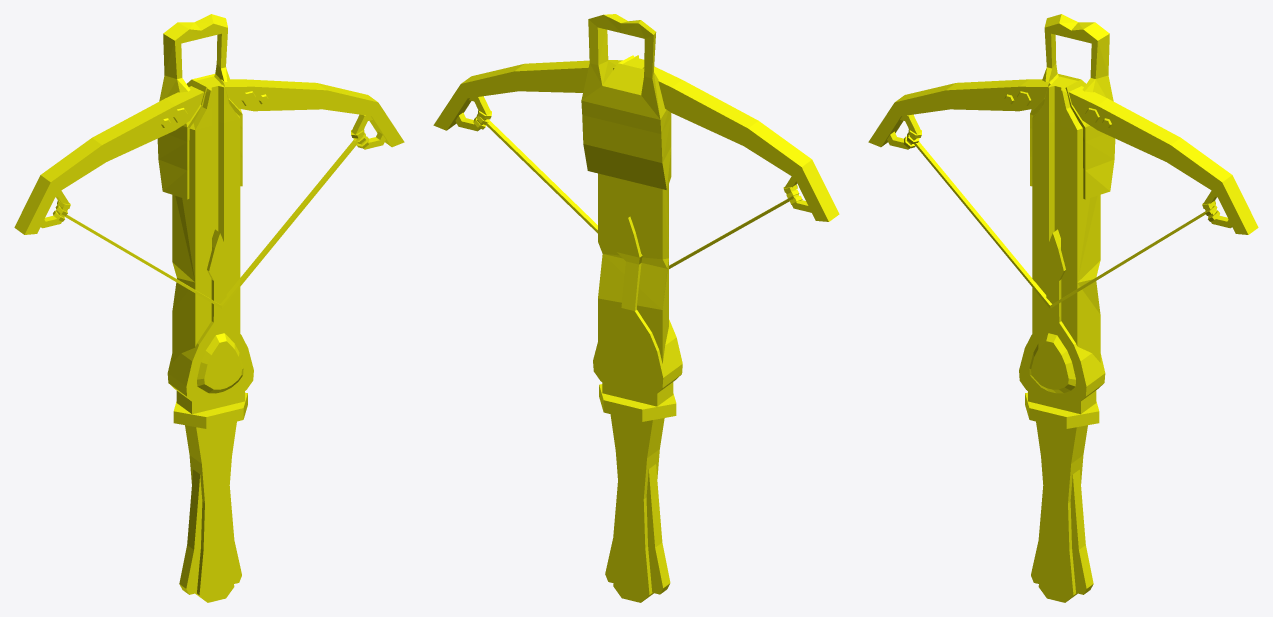
Rendered from _crossbow_1.glb.
3 views of the same model, side by side, from view 1: azimuth 30°, elevation 25°; view 2: azimuth 150°, elevation 25°; view 3: azimuth 330°, elevation 25° (orthographic). The views are drawn at different scales.
Parts seen in each view (by area): view 1: crossbow_1; view 2: crossbow_1; view 3: crossbow_1.
Boxes of the visible parts, bbox=[...] form: crossbow_1: bbox=[14, 14, 404, 602]; crossbow_1: bbox=[433, 14, 839, 602]; crossbow_1: bbox=[868, 14, 1258, 602].
Size of the model in its own units: 22259 by 31675 by 3086.
